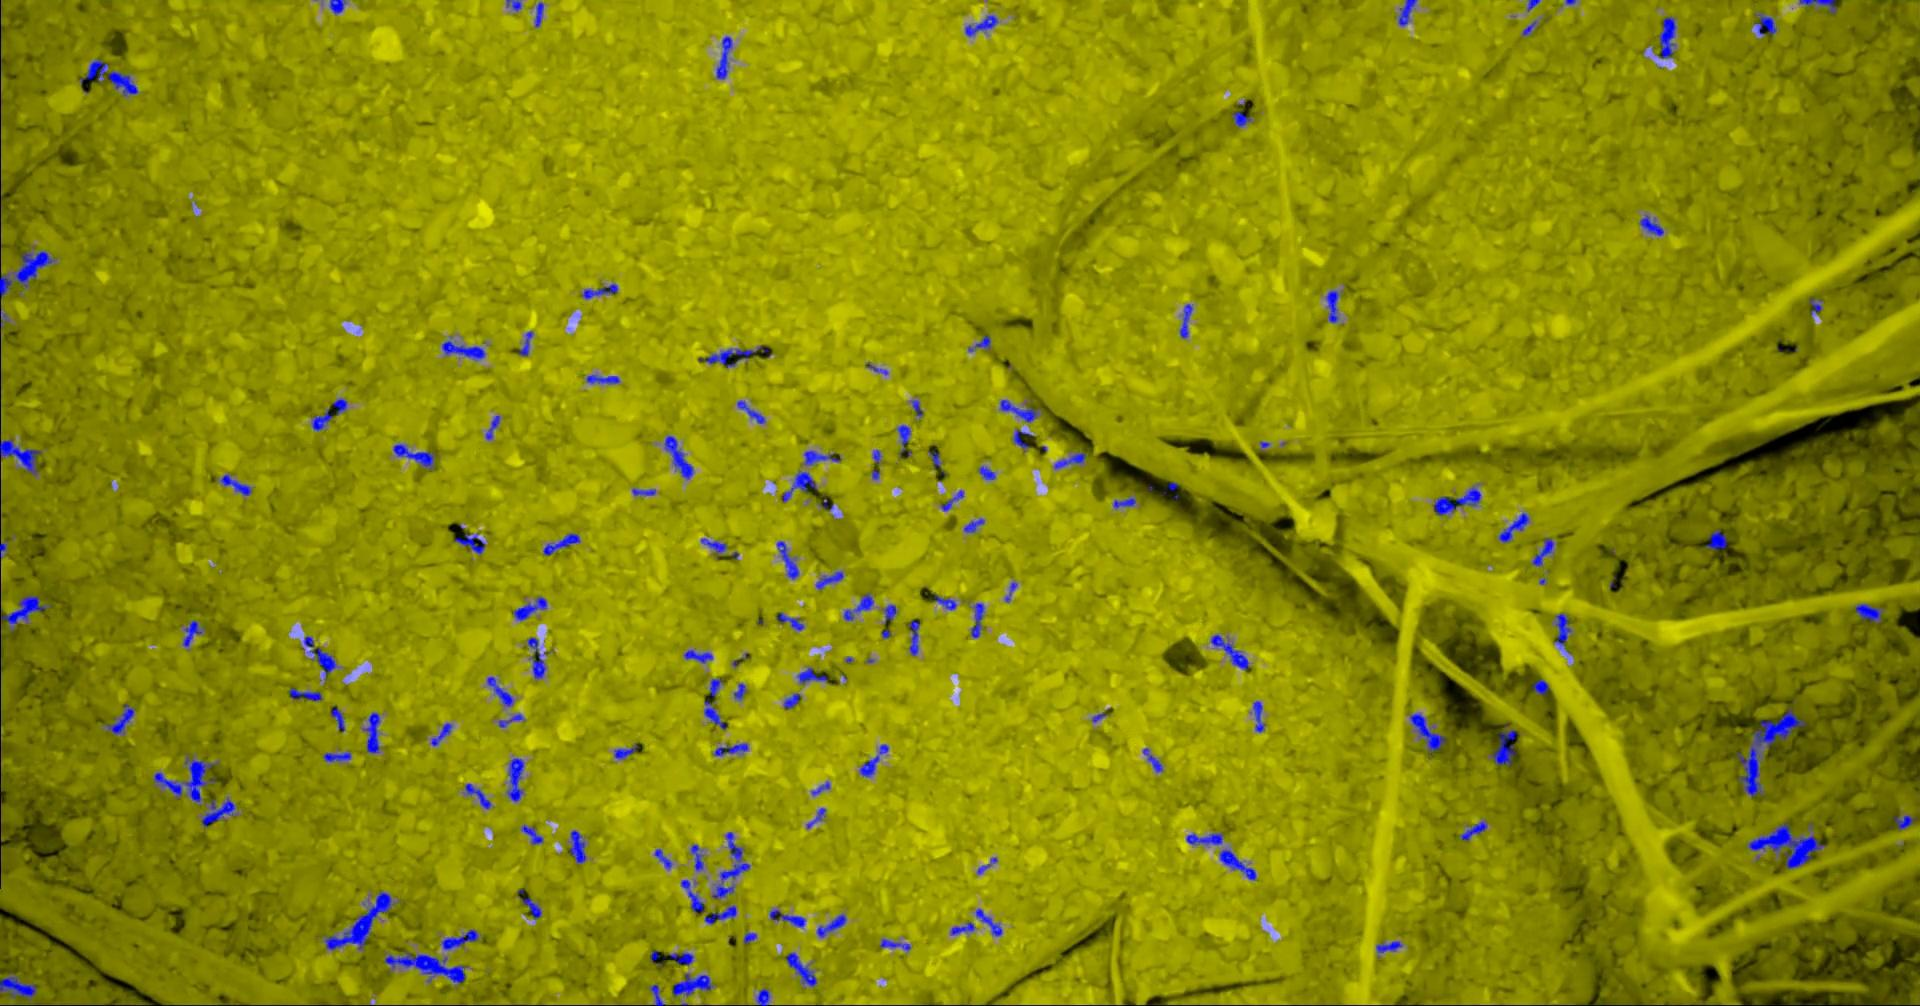ant: (0, 594, 50, 672), (152, 754, 218, 805), (711, 831, 750, 898), (383, 951, 466, 983), (0, 250, 55, 296), (79, 58, 137, 95), (1410, 713, 1446, 754), (0, 438, 41, 475), (302, 635, 337, 678), (1210, 634, 1250, 669), (1432, 486, 1481, 514), (664, 434, 693, 479), (1490, 723, 1516, 767), (1218, 848, 1256, 879), (311, 398, 345, 431), (697, 348, 756, 367), (785, 951, 817, 986), (781, 470, 817, 500), (201, 796, 236, 827), (392, 443, 434, 469), (858, 743, 888, 776), (526, 636, 549, 678), (672, 973, 712, 996), (105, 702, 135, 734), (0, 976, 36, 1001), (1498, 512, 1528, 542), (999, 399, 1037, 422), (441, 929, 483, 949), (776, 540, 797, 579), (441, 340, 485, 359), (505, 757, 524, 801), (512, 596, 546, 620), (486, 676, 513, 706), (1656, 17, 1675, 58), (542, 533, 579, 555), (843, 593, 872, 620), (975, 907, 1002, 936), (218, 473, 251, 495), (681, 879, 703, 912), (362, 713, 380, 753), (463, 782, 490, 808), (964, 15, 997, 36), (703, 700, 726, 729), (817, 915, 846, 937), (716, 36, 731, 79), (453, 533, 485, 554), (737, 400, 764, 423), (182, 619, 204, 647), (770, 909, 805, 927), (1531, 537, 1553, 567), (703, 904, 737, 923), (568, 829, 585, 862), (1752, 11, 1777, 36), (803, 450, 841, 465), (1053, 451, 1084, 469), (1854, 603, 1883, 622), (1554, 614, 1571, 647), (582, 283, 617, 298), (1798, 0, 1836, 14), (700, 539, 728, 558), (430, 721, 452, 746), (1142, 747, 1162, 772), (1459, 821, 1486, 840), (796, 667, 827, 683), (815, 572, 843, 589), (1639, 215, 1663, 235), (1397, 0, 1416, 25), (777, 611, 803, 630), (970, 602, 984, 636), (940, 490, 963, 511), (521, 897, 541, 920), (1324, 290, 1338, 323), (1178, 304, 1192, 337), (897, 424, 910, 457), (1705, 528, 1727, 549), (288, 687, 323, 700), (521, 824, 543, 843), (908, 619, 919, 655), (1185, 832, 1222, 843), (806, 807, 825, 828), (683, 649, 712, 663), (712, 743, 748, 754), (879, 937, 910, 950), (613, 743, 637, 760), (1013, 428, 1032, 448), (498, 713, 524, 727), (690, 843, 703, 870), (1252, 700, 1263, 732), (653, 848, 670, 869), (649, 983, 665, 1005), (330, 705, 344, 730), (668, 951, 693, 965), (968, 335, 990, 351), (933, 594, 956, 610), (949, 921, 975, 934), (485, 415, 499, 439), (585, 373, 618, 384), (518, 332, 532, 354), (1892, 815, 1915, 829), (1230, 111, 1251, 126), (977, 857, 997, 873), (963, 518, 984, 532), (1112, 495, 1135, 508), (323, 751, 350, 761), (883, 605, 897, 624), (1375, 941, 1401, 951), (783, 694, 800, 709), (1808, 297, 1822, 315), (978, 465, 996, 479), (709, 678, 723, 696), (1531, 680, 1549, 694), (811, 781, 829, 795), (329, 0, 345, 14), (756, 988, 770, 1005), (535, 3, 543, 27), (733, 682, 745, 699), (910, 399, 922, 417), (928, 450, 940, 466), (631, 488, 655, 495), (505, 0, 521, 10), (743, 932, 756, 942)
